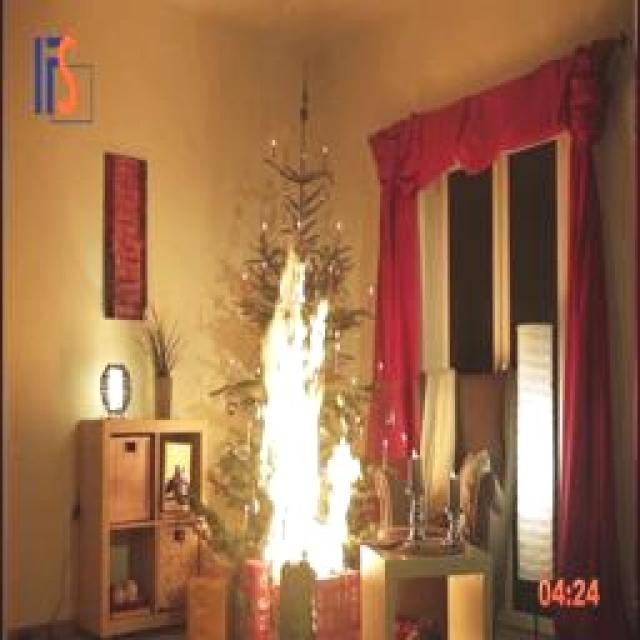fire: (220, 230, 400, 575)
